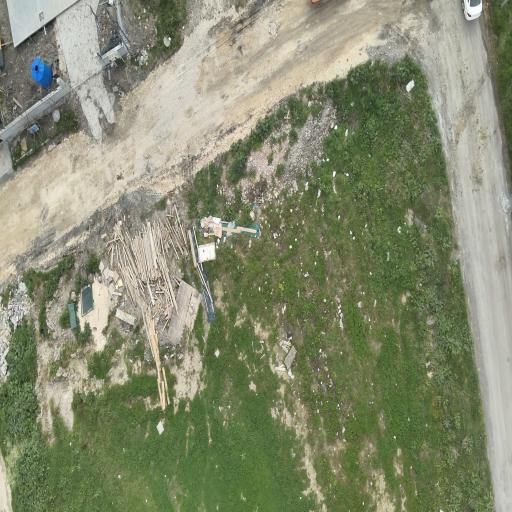car: (462, 0, 482, 20), (311, 0, 326, 6)
